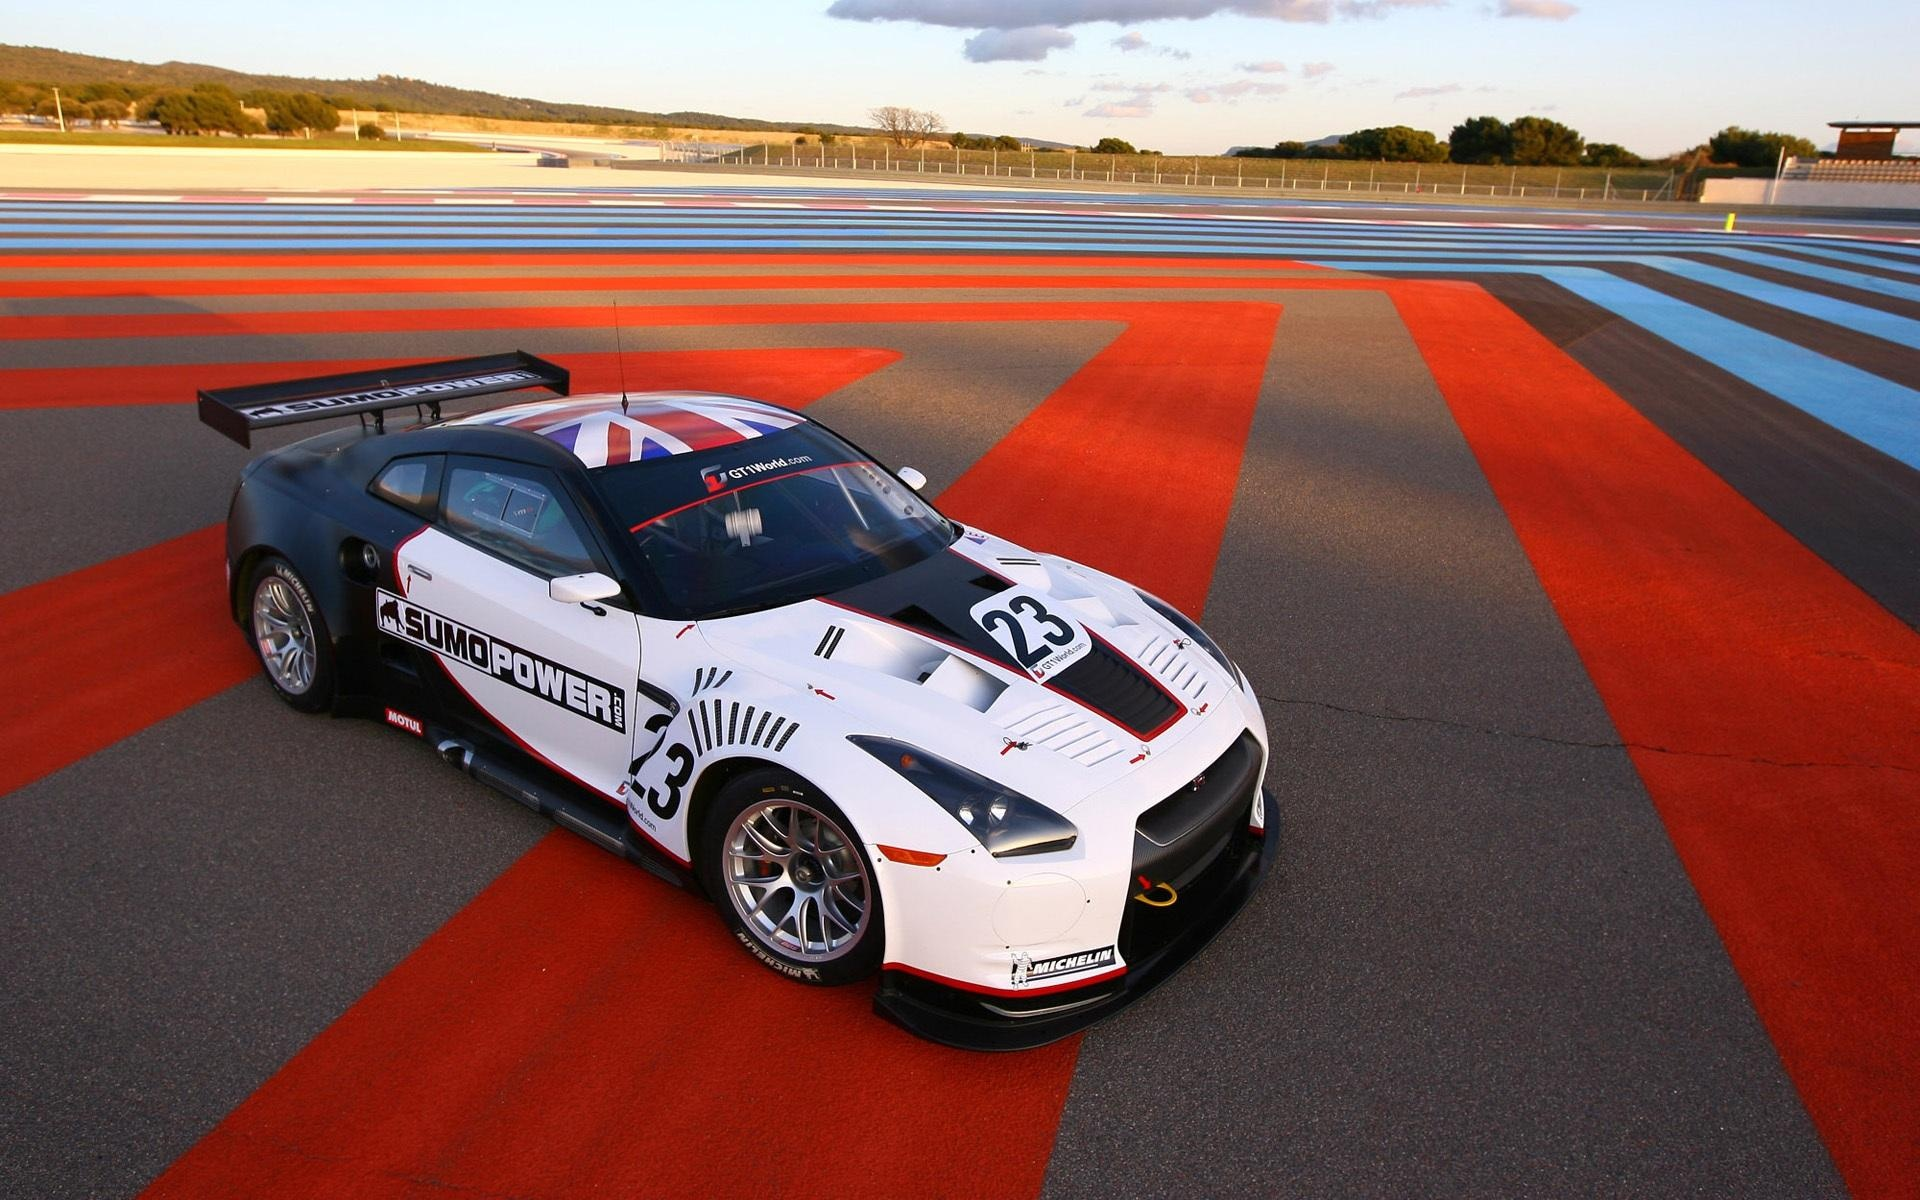racing car: (122, 294, 1298, 1042)
